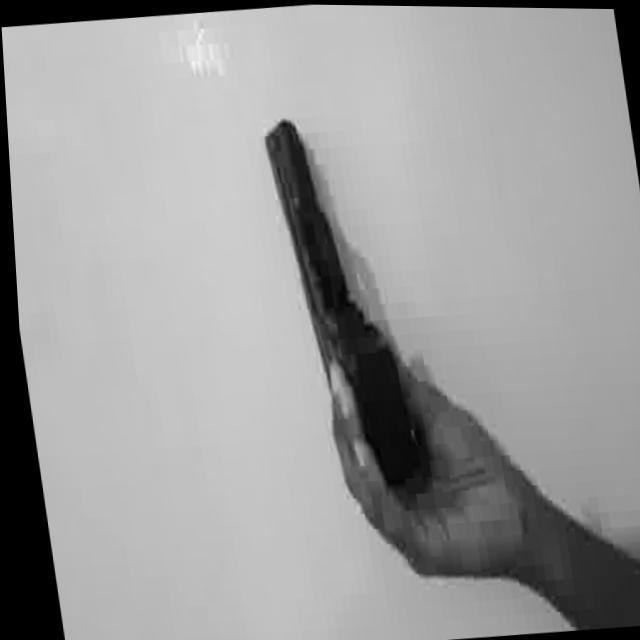weapon: (258, 108, 418, 498)
